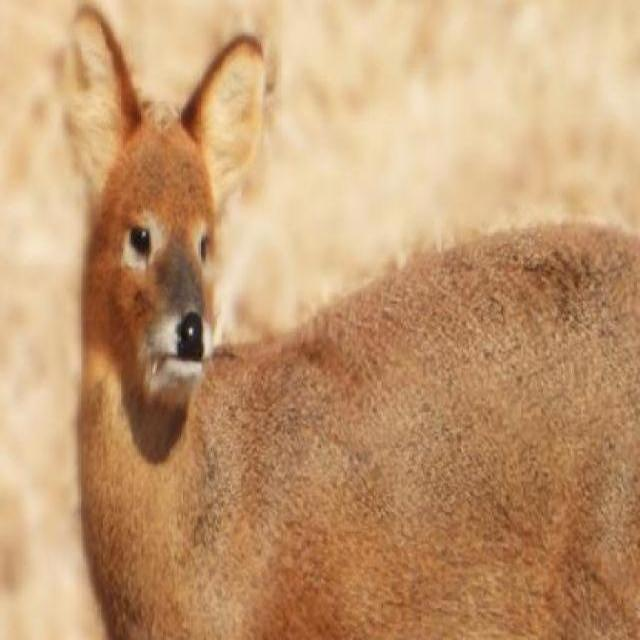deer: (51, 6, 640, 639)
